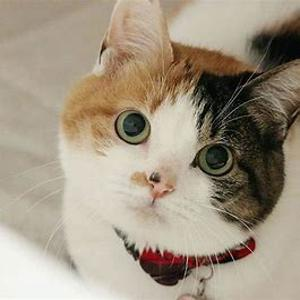cat: (68, 48, 284, 229)
